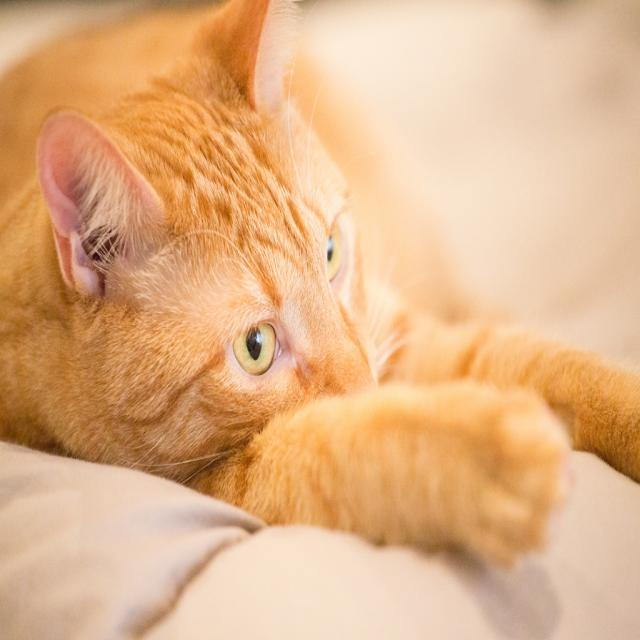Cat: (0, 0, 639, 573)
